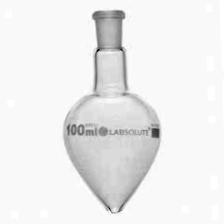Pear shaped flask: (55, 5, 165, 213)
